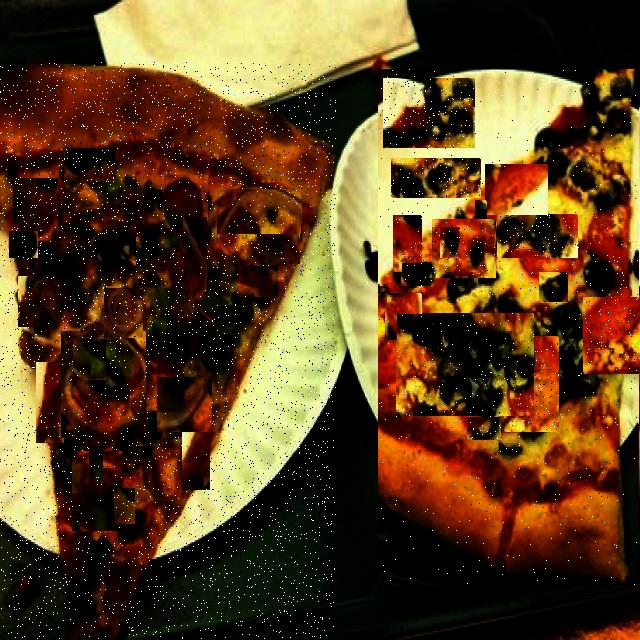Beef: (18, 276, 56, 327), (260, 234, 300, 264), (124, 188, 143, 220)
Green Pepper: (73, 340, 106, 380), (101, 171, 123, 209), (114, 488, 135, 524), (145, 284, 174, 305), (89, 446, 103, 487), (217, 324, 237, 346), (205, 294, 224, 314), (152, 322, 166, 348), (160, 236, 182, 248)
Olives: (397, 314, 534, 416), (384, 80, 475, 150), (198, 295, 253, 373), (392, 159, 481, 198), (498, 215, 578, 258), (72, 537, 103, 619), (64, 148, 116, 181), (116, 502, 151, 540), (97, 235, 136, 267), (35, 256, 79, 283), (84, 362, 115, 396), (138, 412, 163, 448), (540, 273, 568, 302), (9, 231, 38, 258), (402, 263, 436, 286), (468, 418, 501, 440), (140, 221, 160, 256), (167, 332, 190, 361), (116, 434, 135, 469), (440, 227, 460, 258), (66, 218, 94, 238), (598, 261, 617, 286), (497, 441, 524, 455), (520, 271, 538, 291), (476, 201, 487, 219)
Onions: (61, 332, 146, 439), (217, 189, 301, 234), (157, 377, 212, 432), (183, 217, 207, 299), (104, 288, 143, 338)
Pepperoni: (72, 451, 122, 531), (13, 178, 58, 241), (164, 175, 208, 228), (36, 362, 64, 443), (58, 423, 89, 490), (182, 428, 210, 490), (260, 203, 302, 241), (174, 252, 204, 297), (238, 266, 278, 297), (110, 558, 129, 609), (62, 530, 82, 573)
Pizza: (0, 62, 336, 640), (379, 69, 638, 585)
Tomato: (483, 338, 559, 433), (584, 298, 640, 374), (433, 220, 496, 278), (571, 242, 632, 296), (486, 165, 548, 215), (387, 294, 422, 340), (394, 216, 422, 272)
